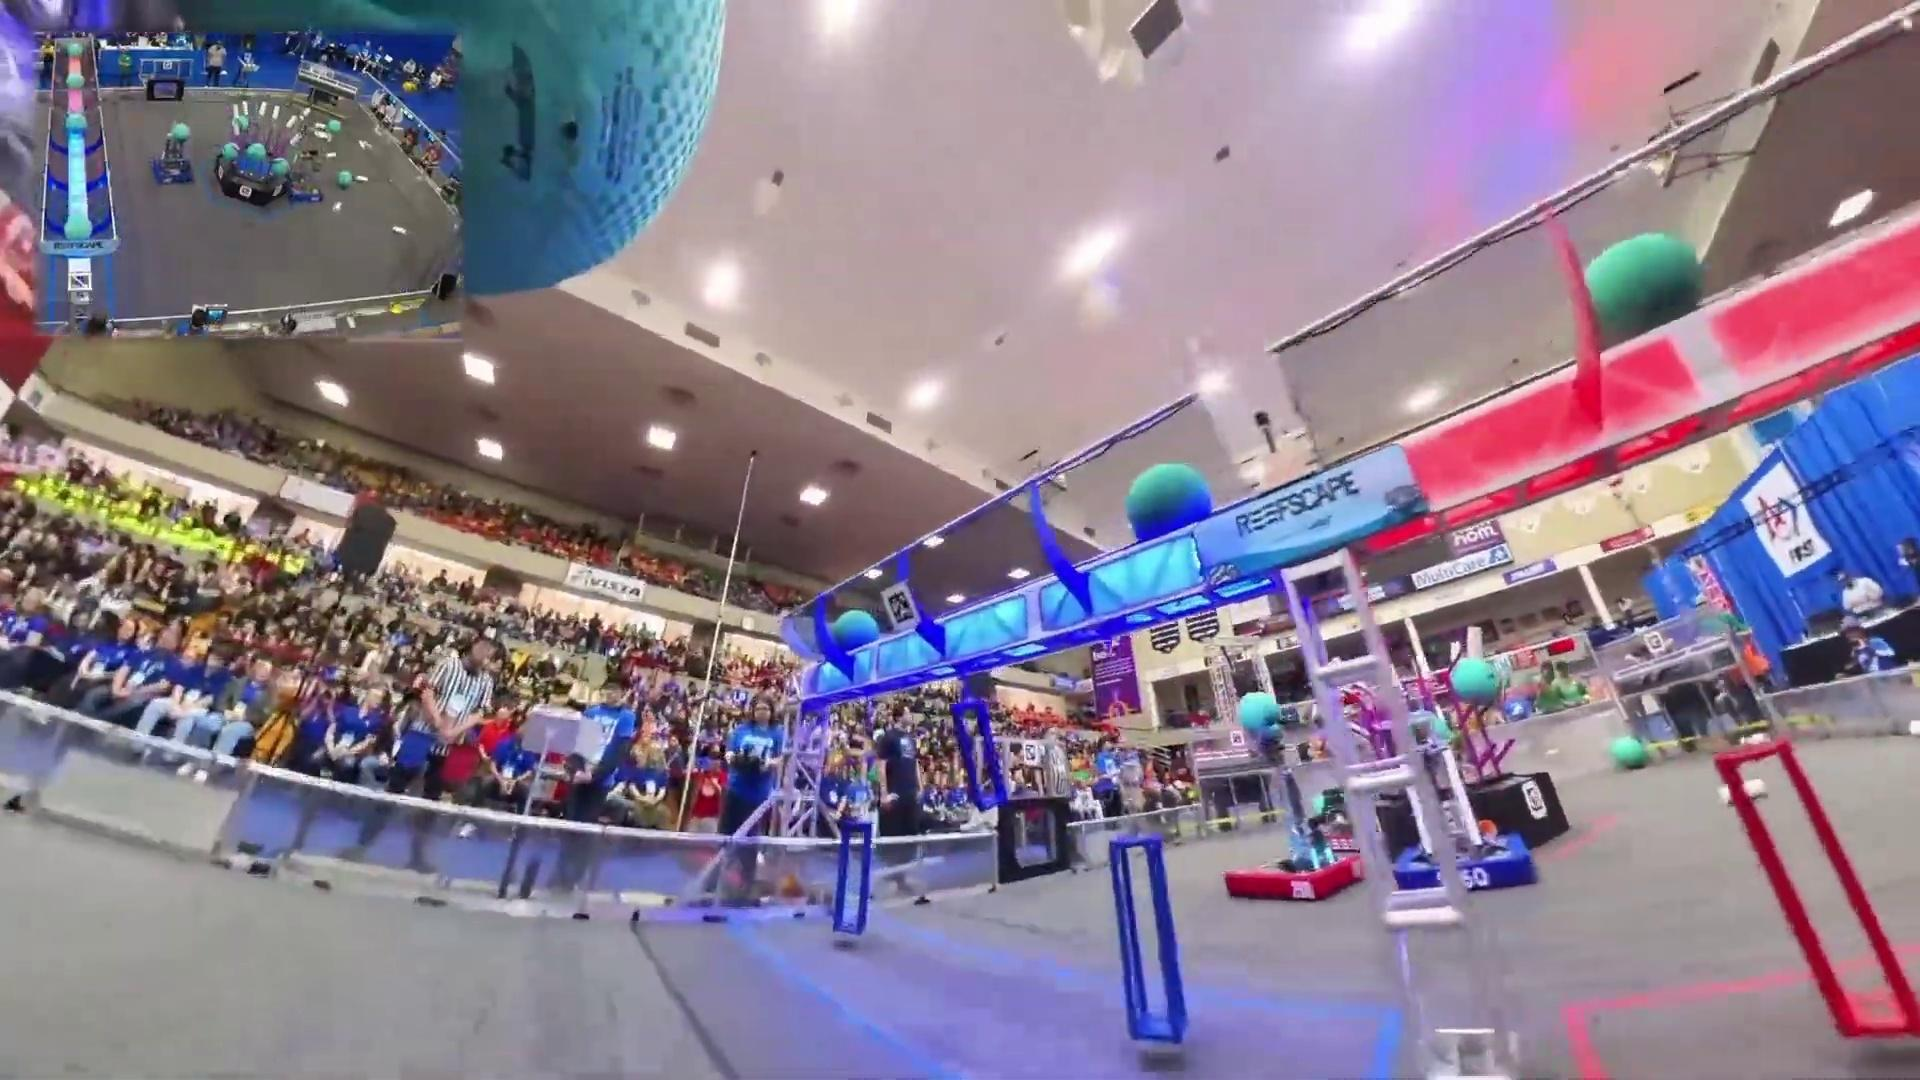robot: (1393, 723, 1534, 894), (1224, 745, 1367, 902), (153, 123, 196, 185), (1315, 786, 1354, 851), (286, 150, 324, 206)
